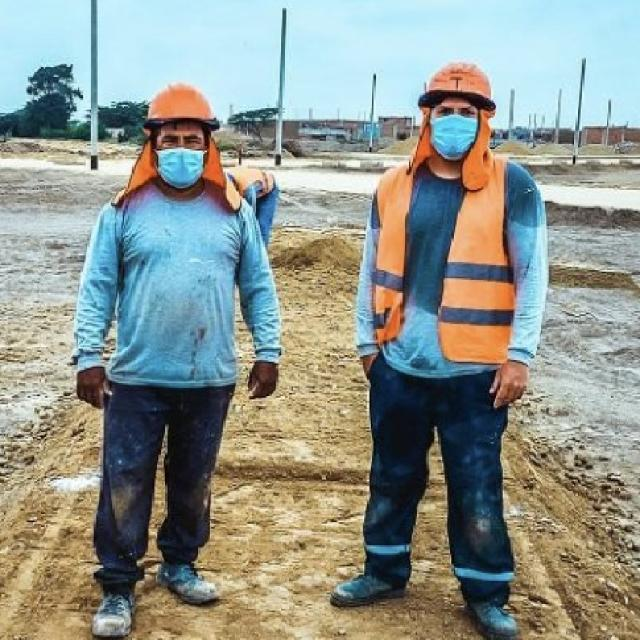boots: (441, 543, 541, 640), (333, 546, 422, 640), (63, 543, 145, 640), (154, 536, 236, 619)
helmet: (117, 72, 250, 129), (402, 44, 510, 112)
no-gloves: (59, 316, 140, 419), (491, 356, 573, 428), (244, 342, 288, 410), (346, 337, 391, 383)
no-vest: (94, 161, 251, 382)
person: (51, 47, 310, 640), (328, 39, 578, 640)
vest: (372, 136, 519, 366)
